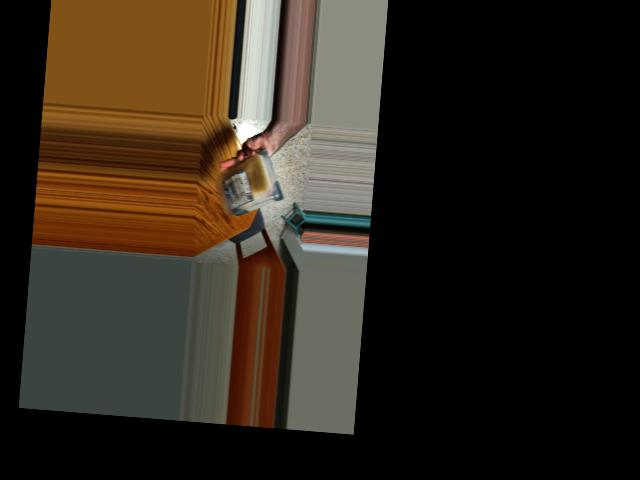cheese: (218, 163, 285, 219)
